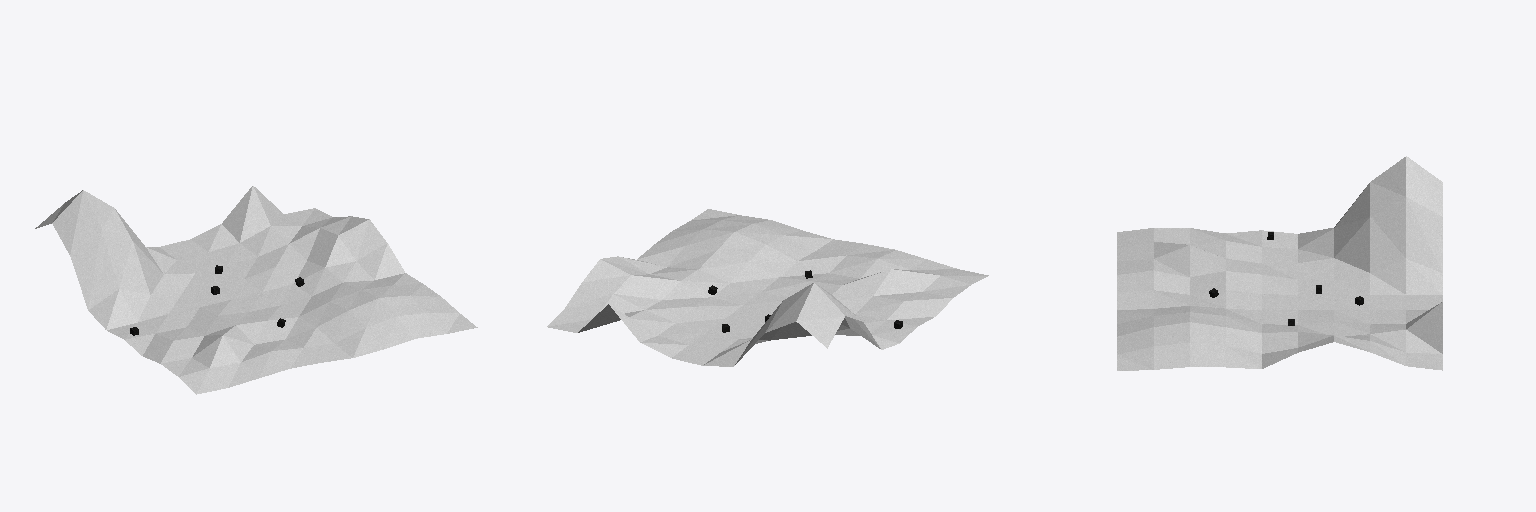
3 views of the same model, side by side, from view 1: azimuth 30°, elevation 25°; view 2: azimuth 150°, elevation 25°; view 3: azimuth 270°, elevation 25° (orthographic).
Visible parts, largest first — view 1: Plane; view 2: Plane; view 3: Plane.
Boxes of the visible parts, x1=… form: Plane: x1=35, y1=186, x2=477, y2=394; Plane: x1=547, y1=209, x2=988, y2=366; Plane: x1=1117, y1=156, x2=1442, y2=370.
Size of the model in its own units: 30.21 by 9.56 by 30.21.
2 materials, 2 textured.